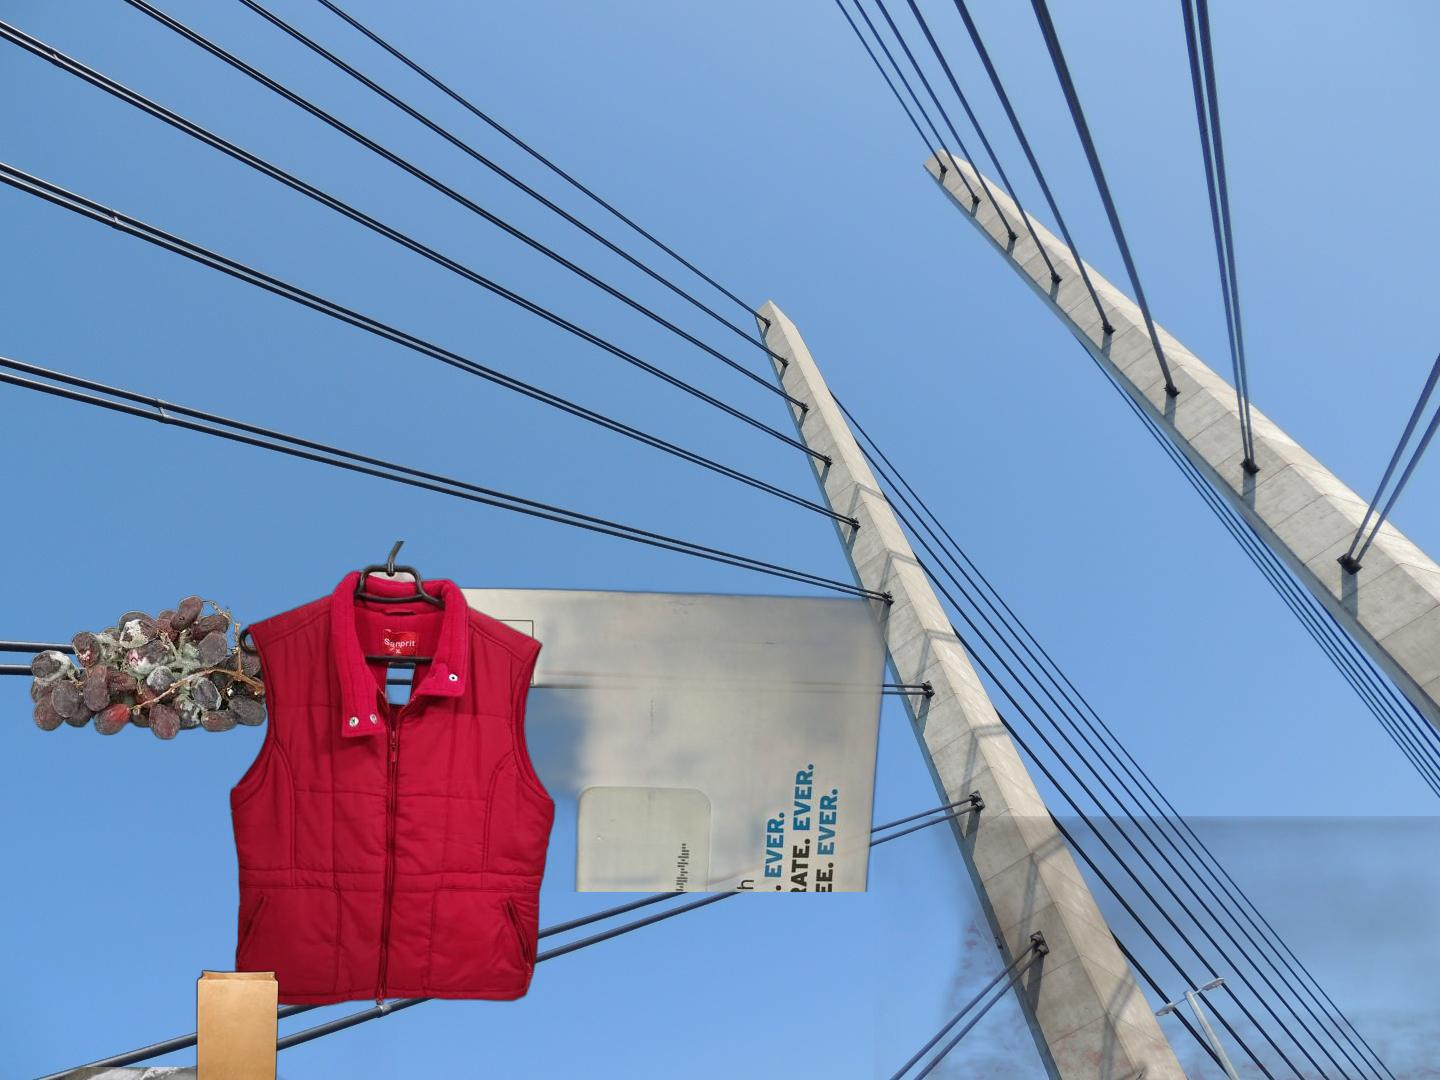biological: (27, 593, 310, 743)
clothes: (226, 541, 558, 1010)
glass: (18, 1068, 407, 1080)
paper: (393, 580, 906, 892)
paper-bag: (98, 925, 398, 1080)
trashbox-cardboard: (874, 816, 1440, 1080), (794, 1057, 1394, 1080)
